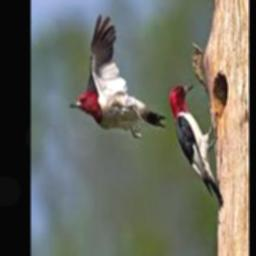Woodpecker: (69, 14, 166, 138), (168, 83, 224, 209)
